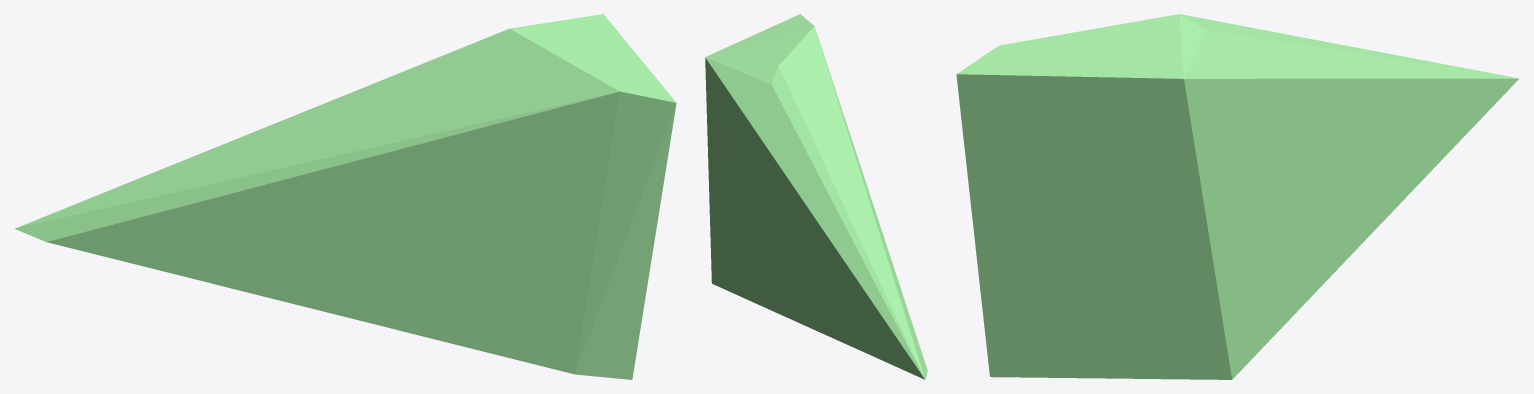
The model's file is UMIRobot_UMIRobot_link_5_convex_coll_13.dae.
3 views of the same model, side by side, from view 1: azimuth 30°, elevation 25°; view 2: azimuth 150°, elevation 25°; view 3: azimuth 270°, elevation 25° (orthographic). The views are drawn at different scales.
Visible parts, largest first — view 1: node; view 2: node; view 3: node.
Part boxes in pixels (x1=…): node: x1=14, y1=14, x2=676, y2=379; node: x1=705, y1=14, x2=927, y2=379; node: x1=956, y1=14, x2=1519, y2=379.
Bounding box in the file's own units: 0.0155 × 0.0101 × 0.0151.
